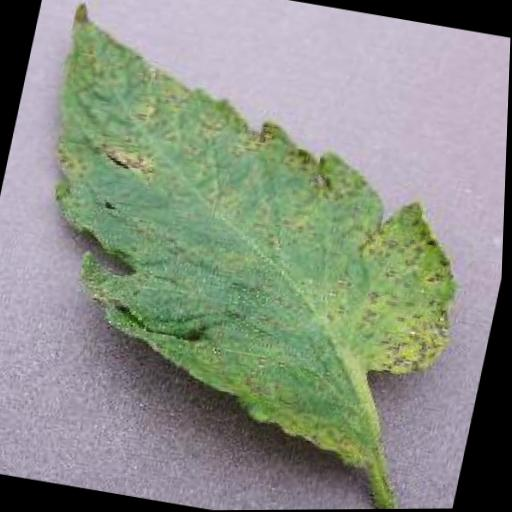Septoria: (0, 1, 503, 484)
